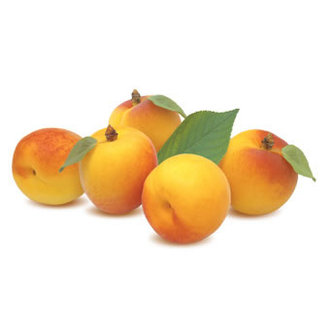Apricot: (139, 152, 229, 250), (71, 128, 156, 220), (221, 131, 300, 219), (10, 128, 86, 210)
